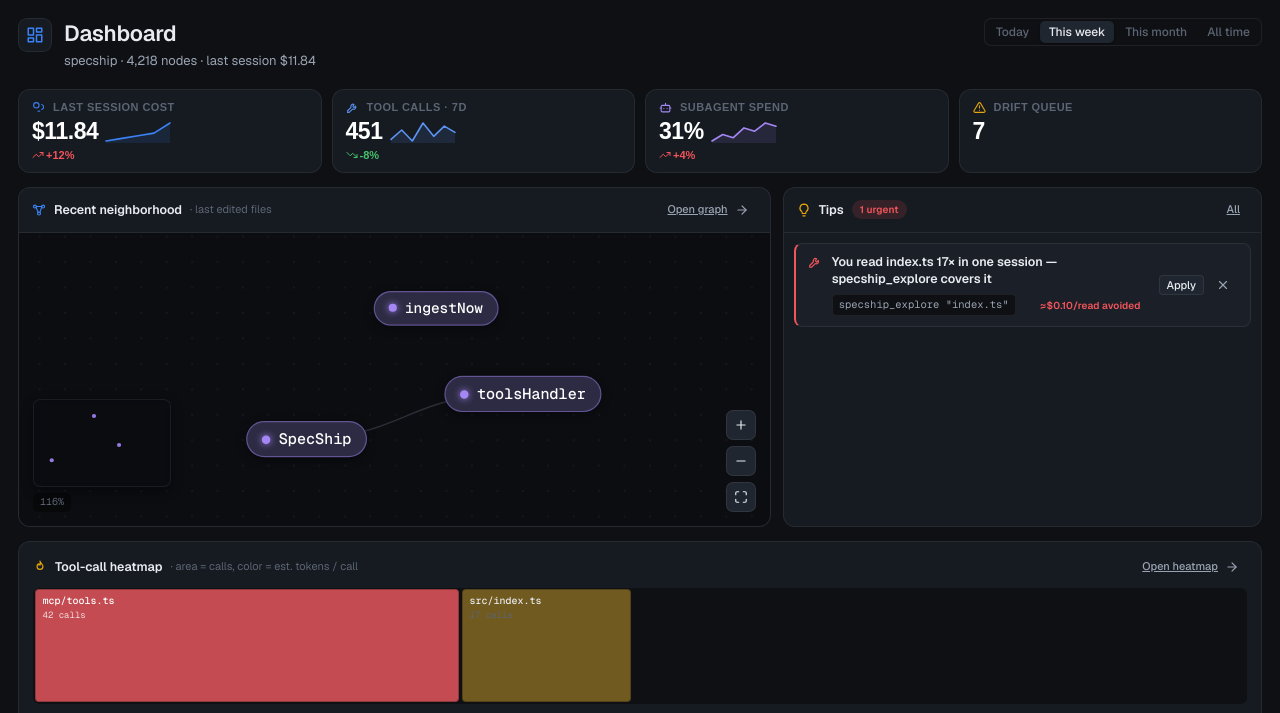
Scenario: DashboardPage (REQ-DESKTOP-020) › A2: Apply POSTs the state and re-renders the tip as applied
Expected: the text "You read index.ts 17× in one session — specship_explore covers it" is shown, [832,253,1057,287]
Click the button "Apply".
click(1181, 285)  # box [1158,275,1204,295]
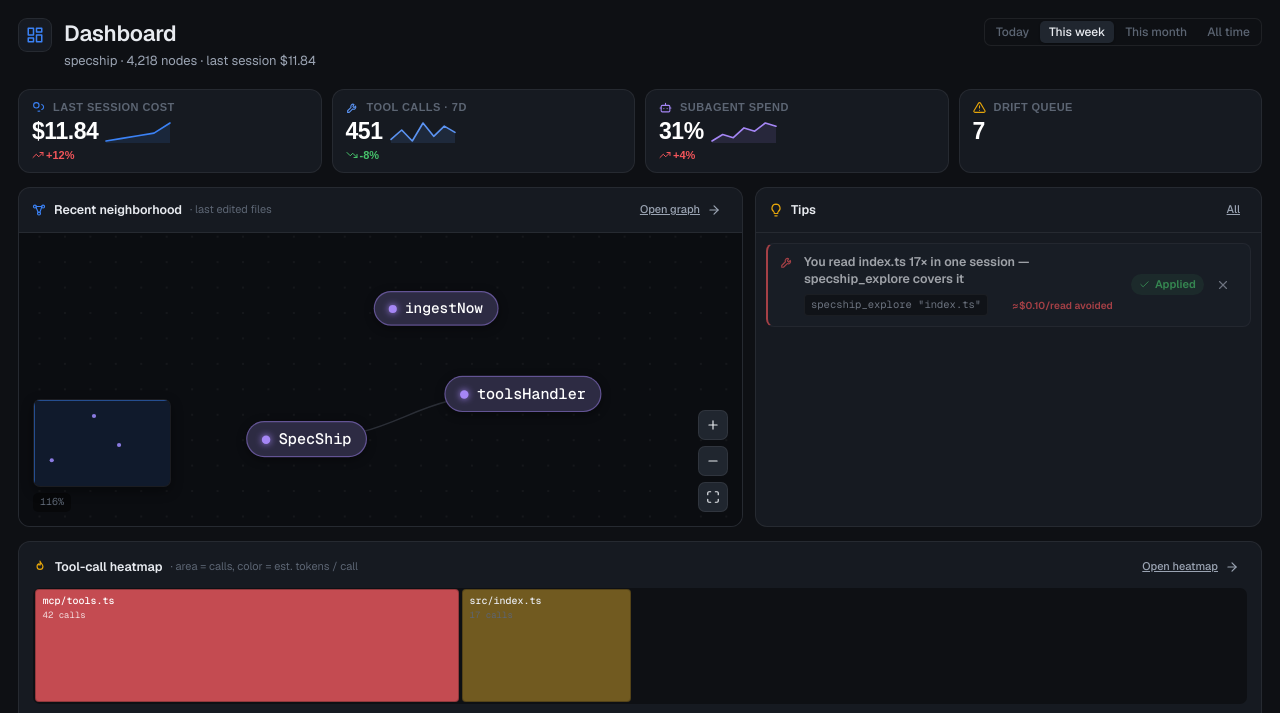
Expected: the text "Applied" is shown, [1131,274,1204,295]
Expected: the text "1 urgent" is gone
